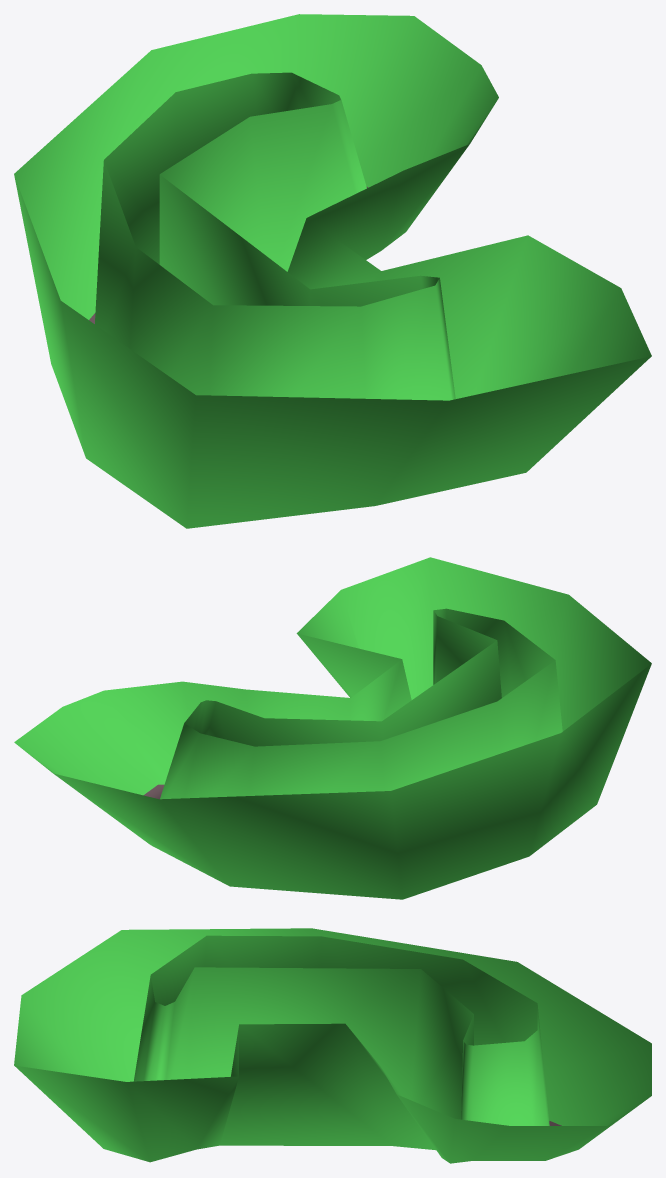
The model's file is circuito1c.dae.
3 views of the same model, one above another, from view 1: azimuth 30°, elevation 25°; view 2: azimuth 150°, elevation 25°; view 3: azimuth 270°, elevation 25° (orthographic). The views are drawn at different scales.
Visible parts, largest first — view 1: Plano; view 2: Plano; view 3: Plano.
Boxes of the visible parts, left/top/right/bottom form: Plano: left=14, top=14, right=651, bottom=528; Plano: left=14, top=557, right=651, bottom=899; Plano: left=14, top=928, right=651, bottom=1163.
Size of the model in its own units: 382 by 521 by 137.
